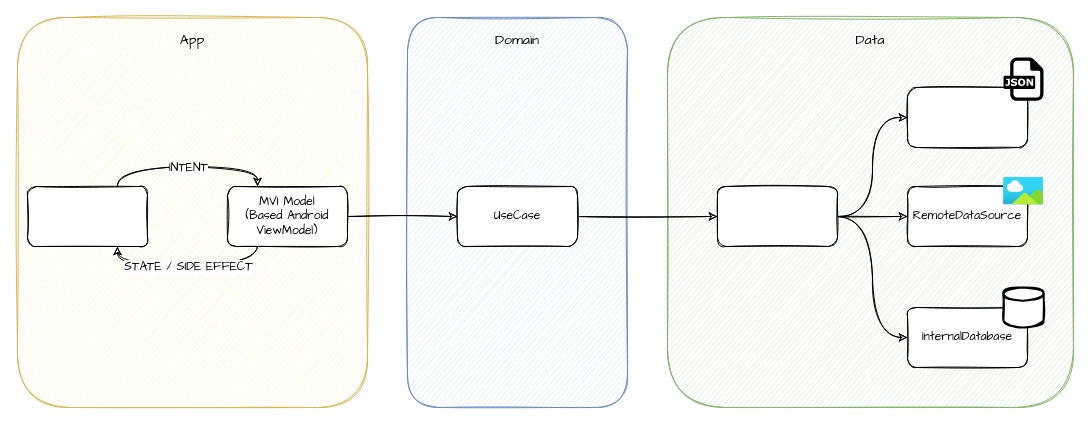
This 1091x425 diagram has some shape labels left out. The shapes that lost their labels are listed below. From the top down, each one's centre as x and y in pixels, then its label:
pixel 967 117: LocalDataSource
pixel 87 216: MVI View
pixel 777 216: Repository
